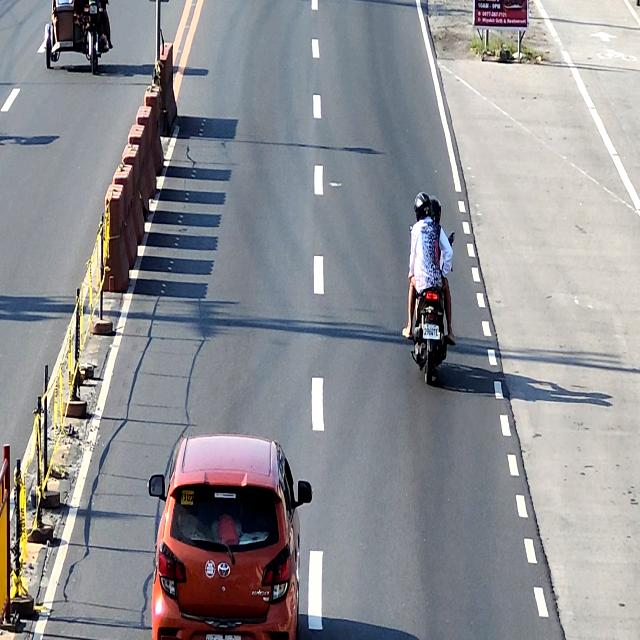Car: (150, 435, 313, 640)
License-Plate: (422, 324, 439, 340)
Motorcycle: (407, 222, 456, 388)
Tricycle: (45, 0, 109, 74)
